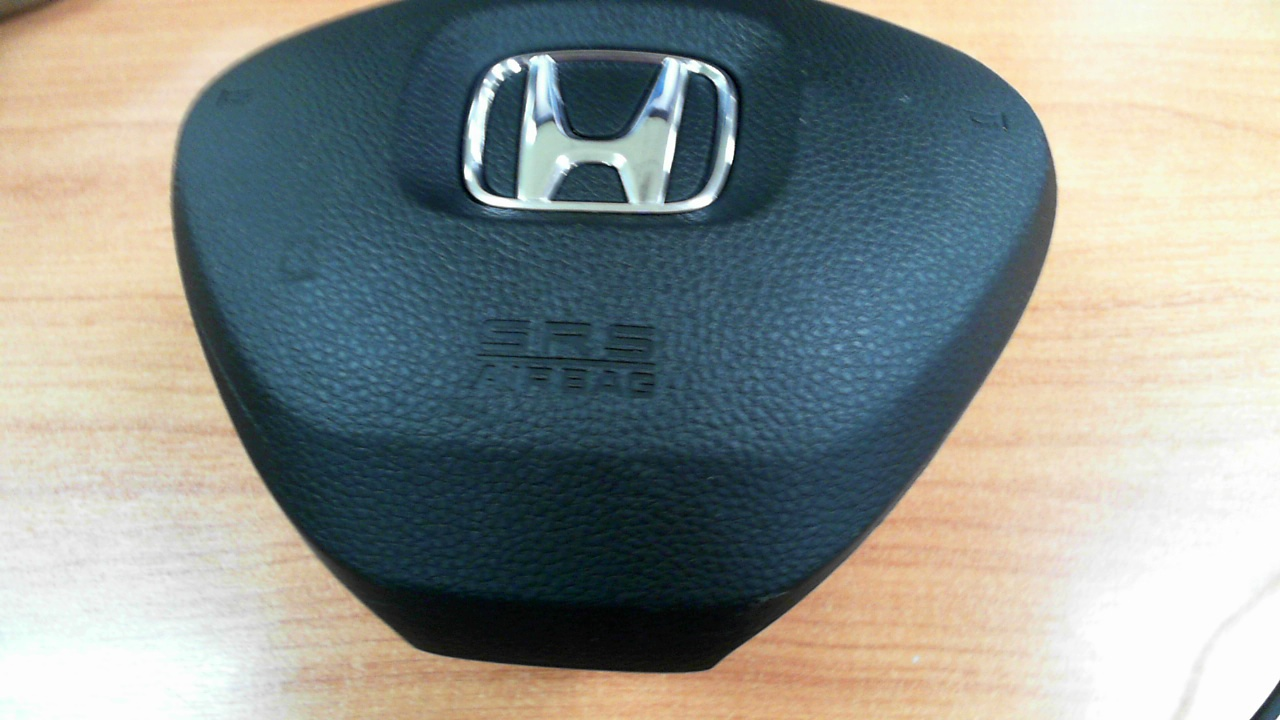Airbag: (171, 0, 1058, 676)
Honda: (463, 48, 738, 216)
